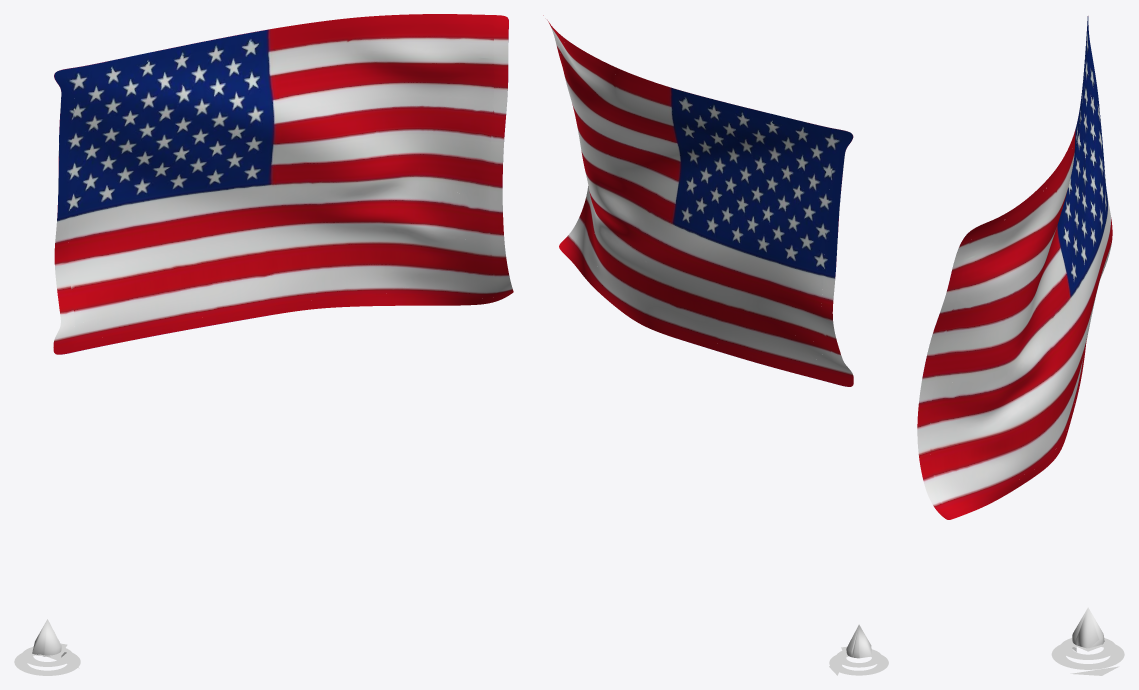
Rendered from flag-us.glb.
3 renders of one model, left to right at view 1: azimuth 30°, elevation 25°; view 2: azimuth 150°, elevation 25°; view 3: azimuth 270°, elevation 25°, orthographic. The views are drawn at different scales.
Visible parts, largest first — view 1: Plane, Plane_Material.003_0.001, Cylinder; view 2: Plane, Cylinder, Plane_Material.003_0.001; view 3: Plane, Cylinder, Plane_Material.003_0.001.
Part boxes in pixels (bbox=[...]): Plane: bbox=[53, 14, 513, 354]; Plane_Material.003_0.001: bbox=[74, 185, 478, 341]; Cylinder: bbox=[14, 619, 80, 675]; Plane: bbox=[543, 15, 853, 386]; Cylinder: bbox=[829, 624, 888, 675]; Plane_Material.003_0.001: bbox=[592, 206, 835, 374]; Plane: bbox=[917, 16, 1112, 519]; Cylinder: bbox=[1051, 607, 1124, 675]; Plane_Material.003_0.001: bbox=[946, 376, 1039, 489].
Bounding box in the file's own units: 5.29 × 6.91 × 1.99.
Materials: 2 (1 with a texture image).
